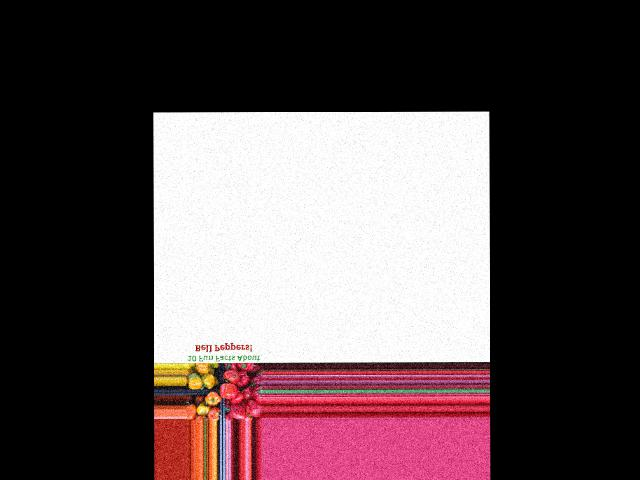bell_pepper: (233, 360, 254, 374)
